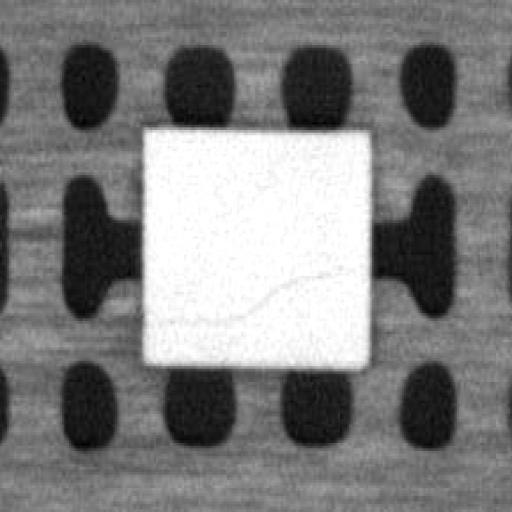DIE_CRACK: (165, 260, 345, 326)
